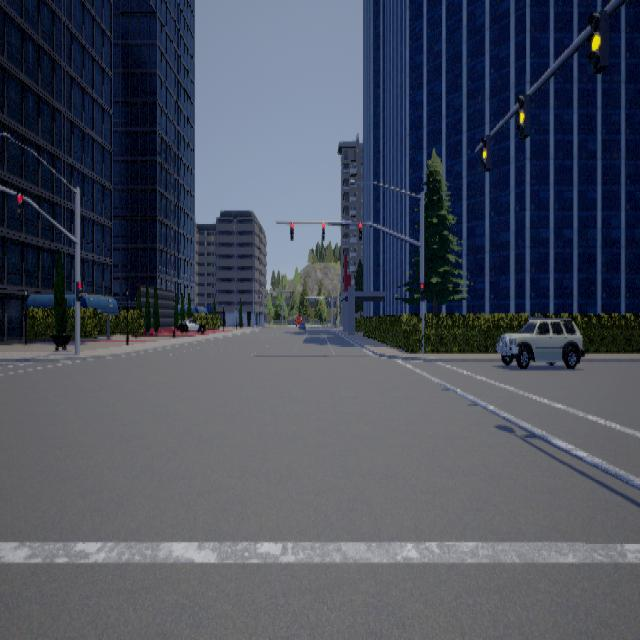red_light: (14, 192, 22, 217), (75, 280, 82, 300), (419, 281, 423, 300), (290, 222, 294, 241), (358, 221, 361, 239), (322, 222, 325, 240)
vehicle: (495, 315, 584, 367)
yellow_light: (587, 8, 608, 72), (516, 93, 529, 138), (480, 133, 490, 170)
